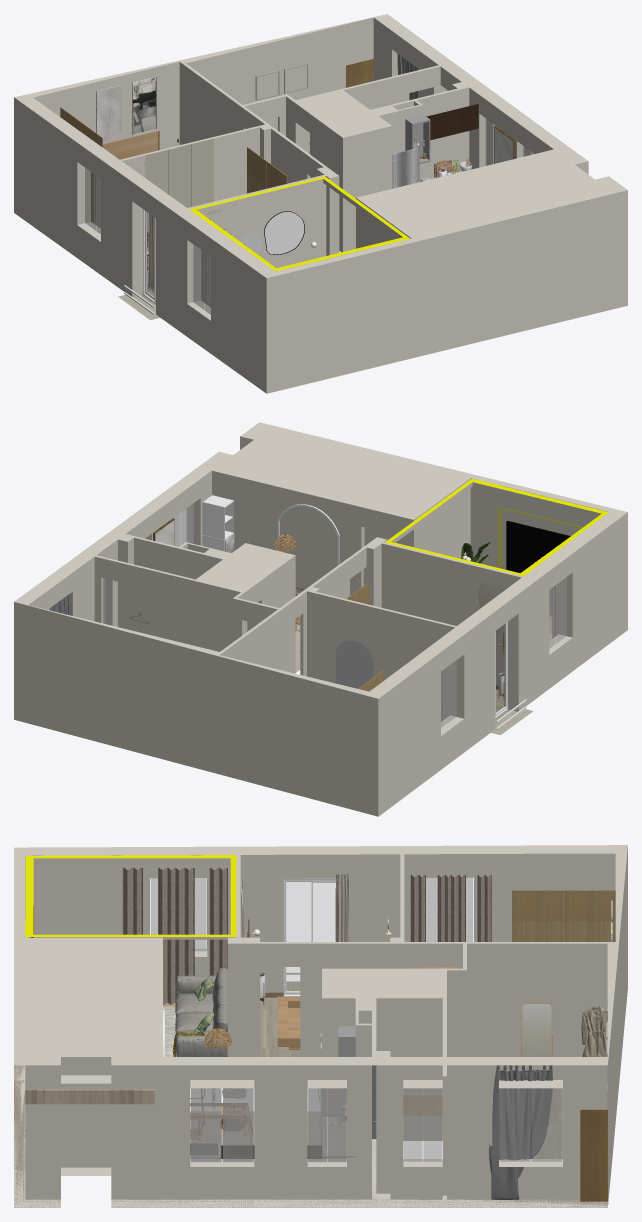
The model's file is burgos-floor-2-hd-1.glb.
The picture shows the model from 3 angles, top to bottom: view 1: azimuth 30°, elevation 25°; view 2: azimuth 150°, elevation 25°; view 3: azimuth 270°, elevation 25°; orthographic projection. The views are drawn at different scales.
Parts seen in each view (by area): view 1: structure, piece_134, piece_77, piece_16, piece_81, piece_25, piece_125, piece_28, piece_61, piece_30; view 2: structure, piece_24, piece_25, piece_28; view 3: structure, piece_27, piece_101, piece_26, piece_30, piece_0, piece_25, piece_28, piece_29, piece_79.
Part boxes in pixels (x1,y1,x2,y2): structure: [14, 14, 627, 393]; piece_134: [145, 138, 213, 265]; piece_77: [264, 211, 304, 254]; piece_16: [96, 85, 121, 142]; piece_81: [132, 76, 156, 134]; piece_25: [193, 244, 210, 314]; piece_125: [103, 130, 159, 159]; piece_28: [85, 168, 100, 233]; piece_61: [494, 126, 515, 163]; piece_30: [346, 59, 373, 87]; structure: [14, 422, 627, 816]; piece_24: [506, 521, 570, 572]; piece_25: [549, 577, 566, 648]; piece_28: [441, 660, 456, 727]; structure: [14, 845, 627, 1207]; piece_27: [499, 1088, 561, 1161]; piece_101: [172, 967, 227, 1056]; piece_26: [403, 1088, 441, 1161]; piece_30: [580, 1091, 607, 1201]; piece_0: [521, 1003, 552, 1056]; piece_25: [150, 878, 206, 951]; piece_28: [426, 877, 473, 941]; piece_29: [581, 1006, 607, 1056]; piece_79: [403, 1095, 442, 1115].
Bounding box in the file's own units: 9.47 × 2.89 × 10.92.
Materials: 171 (107 with a texture image).
